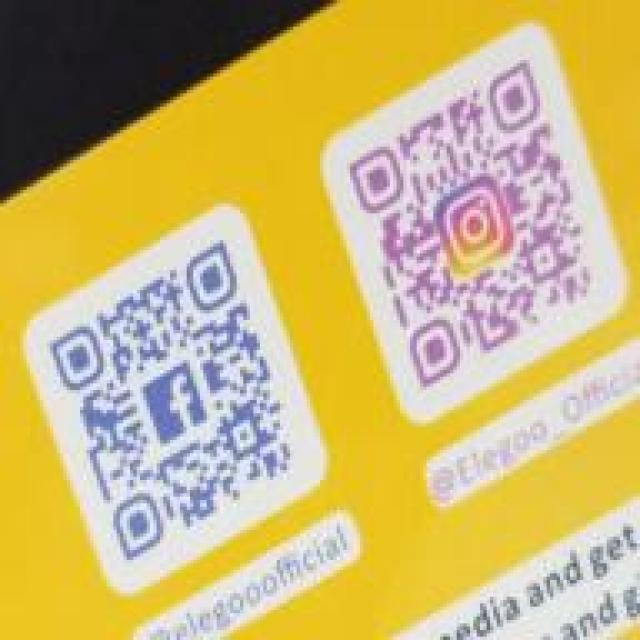QR_CODE: (337, 48, 603, 410), (40, 227, 303, 570)
